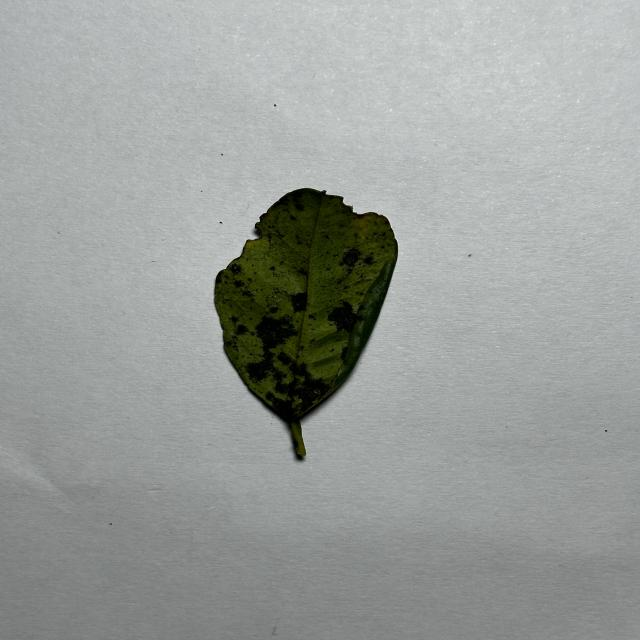sooty_mold: (215, 189, 397, 456)
